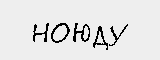Д: (91, 24, 110, 51)
Н: (29, 22, 50, 45)
О: (50, 21, 69, 44)
У: (108, 21, 128, 48)
Ю: (73, 20, 91, 44)
